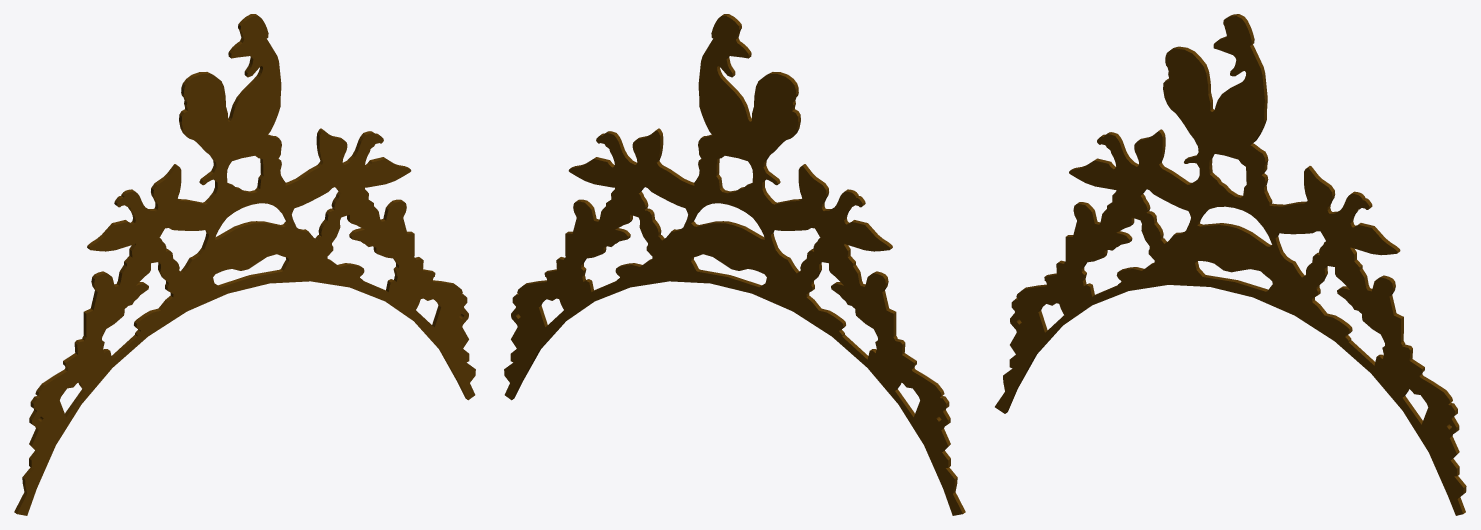
File: Copie de Fronton^Horloge Comtoise Verge - Sonnerie.obj
3 renders of one model, left to right at view 1: azimuth 30°, elevation 25°; view 2: azimuth 150°, elevation 25°; view 3: azimuth 330°, elevation 25°, orthographic. The views are drawn at different scales.
Visible parts, largest first — view 1: Face_414; view 2: Face_1; view 3: Face_414.
Boxes of the visible parts, left/top/right/bottom form: Face_414: left=17, top=16, right=475, bottom=515; Face_1: left=504, top=16, right=962, bottom=515; Face_414: left=995, top=16, right=1463, bottom=515.
Size of the model in its own units: 0.2408 by 0.2229 by 0.0025.
